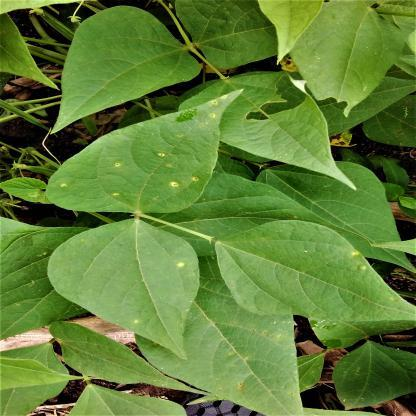Beans_Rust: (137, 268, 304, 416), (52, 90, 235, 212), (214, 219, 416, 325), (50, 217, 198, 326), (288, 0, 399, 108)
